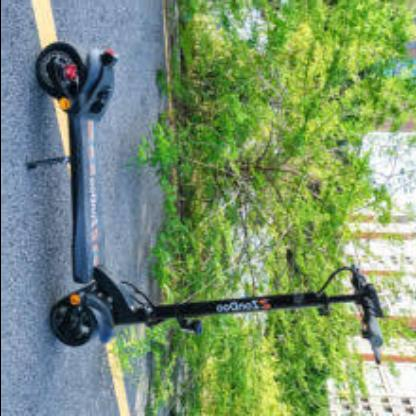bike: (48, 265, 387, 416)
